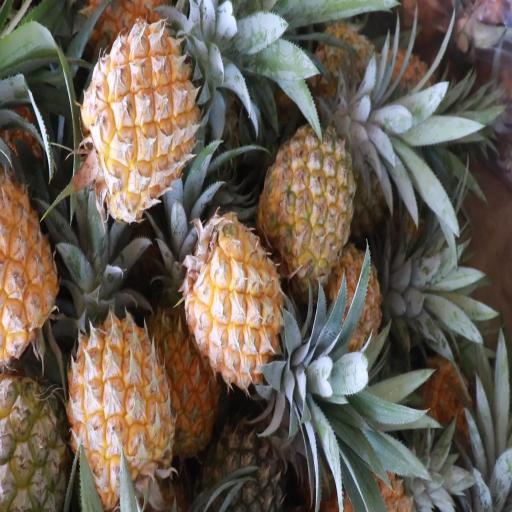------------------------------: (263, 122, 353, 288), (0, 378, 74, 512)
Pineapple - v8 v1: (88, 25, 204, 213), (72, 316, 170, 499), (186, 217, 284, 393), (0, 160, 61, 360), (149, 301, 220, 453)
